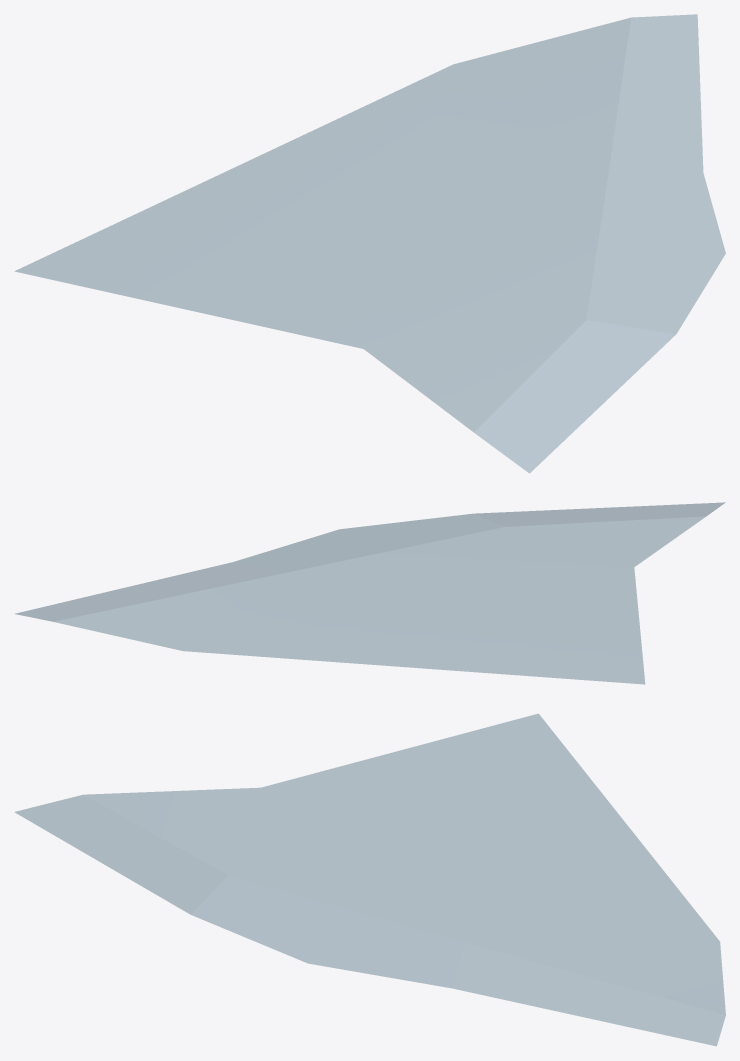
The model's file is nieve4.fbx.
3 views of the same model, one above another, from view 1: azimuth 30°, elevation 25°; view 2: azimuth 150°, elevation 25°; view 3: azimuth 270°, elevation 25° (orthographic). The views are drawn at different scales.
Visible parts, largest first — view 1: Cylinder002; view 2: Cylinder002; view 3: Cylinder002.
Boxes of the visible parts, x1=… form: Cylinder002: x1=14, y1=14, x2=725, y2=473; Cylinder002: x1=14, y1=502, x2=725, y2=684; Cylinder002: x1=14, y1=713, x2=725, y2=1046.
Size of the model in its own units: 50.05 by 1.24 by 46.88.
